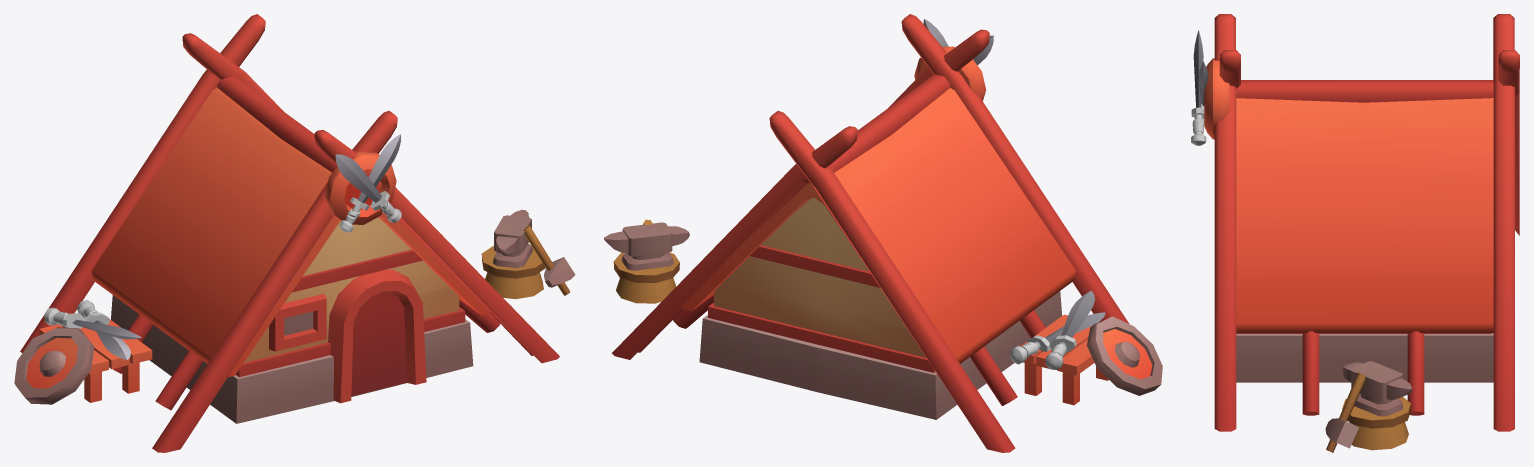
Rendered from SwordHouse11.fbx.
3 views of the same model, side by side, from view 1: azimuth 30°, elevation 25°; view 2: azimuth 150°, elevation 25°; view 3: azimuth 270°, elevation 25° (orthographic). The views are drawn at different scales.
Parts seen in each view (by area): view 1: Cube.235, Cube.234, Cube.248, Cube.254, Cube.239, Cube.240, Cylinder.083, Cube.236, Cube.250, Plane.064, Circle.050, Cube.237 (+8 smaller); view 2: Cube.235, Cube.234, Cube.239, Cube.254, Cube.238, Cylinder.083, Cube.236, Cube.249, Cube.250, Circle.052, Cube.237, Sword.012 (+3 smaller); view 3: Cube.235, Cube.234, Cube.238, Cube.240, Cube.236, Cube.237, Cube.249, Circle.052, Cube.239, Circle.050, Cylinder.082, Sword.009 (+1 smaller).
Boxes of the visible parts, x1,y1,x2,y2 form: Cube.235: (92, 87, 489, 376); Cube.234: (111, 217, 473, 423); Cube.248: (328, 269, 426, 403); Cube.254: (152, 110, 397, 452); Cube.239: (20, 14, 265, 352); Cube.240: (314, 130, 559, 363); Cylinder.083: (14, 327, 94, 404); Cube.236: (217, 76, 337, 172); Cube.250: (39, 319, 152, 402); Plane.064: (269, 294, 326, 351); Circle.050: (325, 151, 396, 224); Cube.237: (112, 299, 500, 410); Cube.235: (681, 88, 1075, 363); Cube.234: (699, 197, 1061, 419); Cube.239: (769, 111, 1015, 452); Cube.254: (901, 14, 1129, 323); Cube.238: (612, 126, 857, 359); Cylinder.083: (1087, 316, 1162, 395); Cube.236: (809, 74, 950, 183); Cube.249: (604, 222, 689, 270); Cube.250: (1020, 314, 1108, 405); Circle.052: (613, 252, 679, 303); Cube.237: (673, 295, 1045, 405); Sword.012: (1045, 290, 1094, 369); Cube.235: (1236, 98, 1493, 333); Cube.234: (1236, 333, 1493, 382); Cube.238: (1493, 14, 1514, 431); Cube.240: (1214, 14, 1236, 431); Cube.236: (1236, 80, 1493, 102); Cube.237: (1302, 331, 1424, 415); Cube.249: (1342, 361, 1412, 416); Circle.052: (1342, 397, 1410, 450); Cube.239: (1498, 50, 1519, 235); Circle.050: (1204, 58, 1229, 139); Cylinder.082: (1325, 372, 1365, 452); Sword.009: (1191, 30, 1206, 145).
Size of the model in its own units: 2.33 by 1.15 by 1.16.
